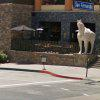Statue: (65, 16, 100, 55)
